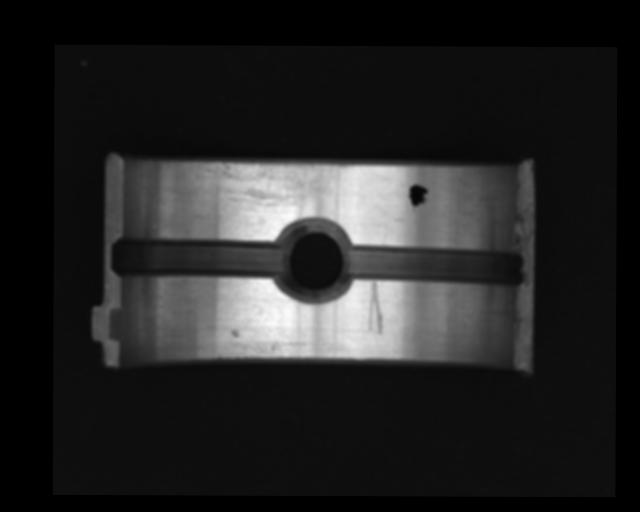blot: (407, 182, 430, 213)
bruise: (230, 329, 240, 338)
gap: (343, 243, 528, 290), (110, 238, 286, 281)
hole: (276, 219, 351, 300)
nick: (367, 279, 385, 335)
scratch: (189, 158, 355, 209)
